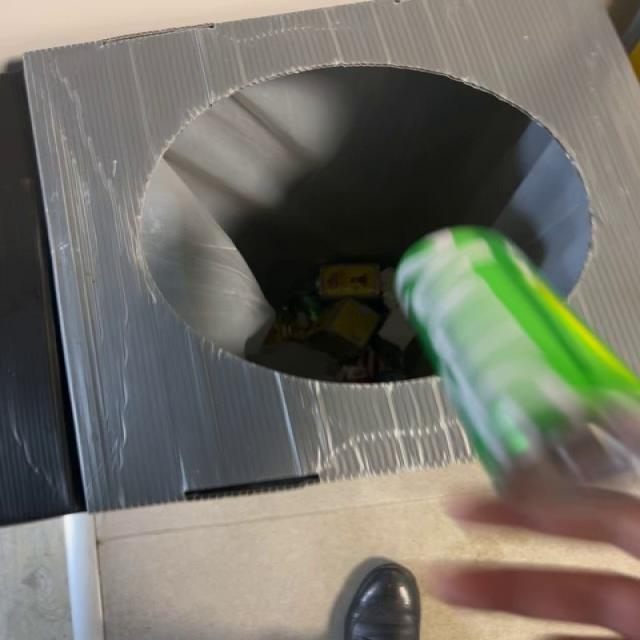bin: (24, 0, 639, 512)
